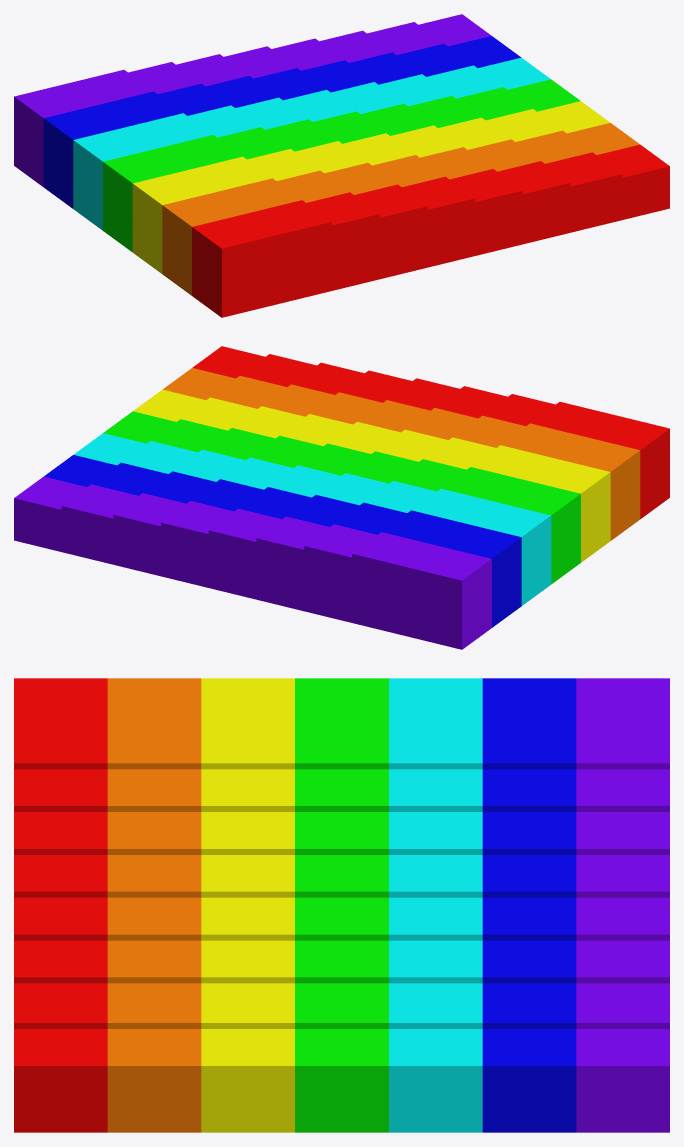
The model's file is Eruption-17.obj.
The picture shows the model from 3 angles, top to bottom: view 1: azimuth 30°, elevation 25°; view 2: azimuth 150°, elevation 25°; view 3: azimuth 270°, elevation 25°; orthographic projection. The views are drawn at different scales.
Size of the model in its own units: 12.2 by 1.8 by 9.8.
1 material, 1 textured.
